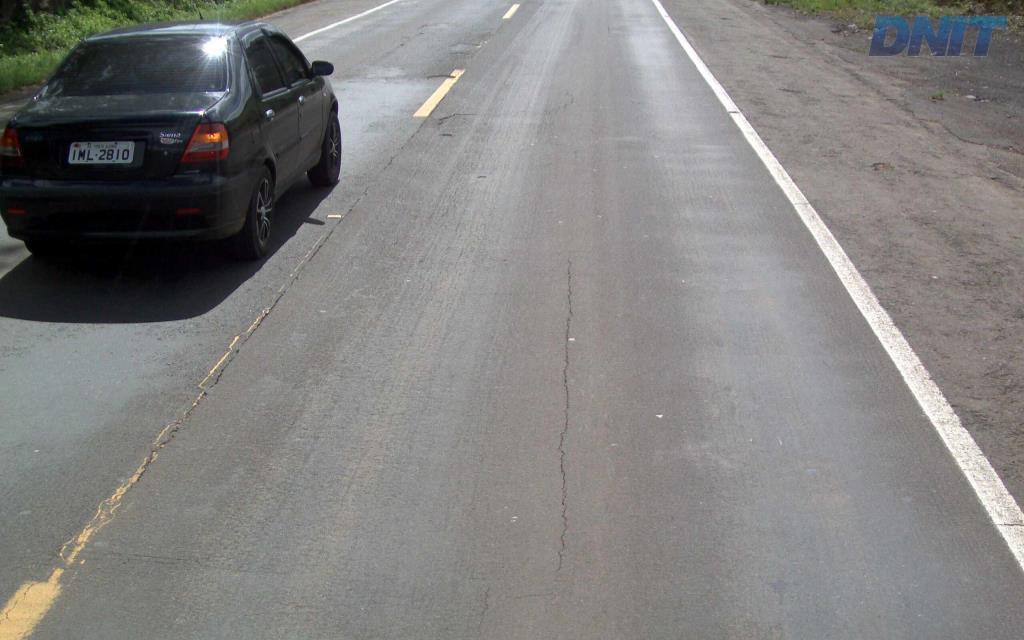crack: (555, 410, 568, 572)
